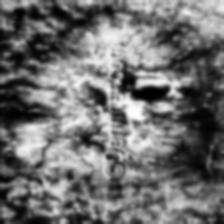Potentially Malignant Skin Tumors: (120, 71, 178, 113)
